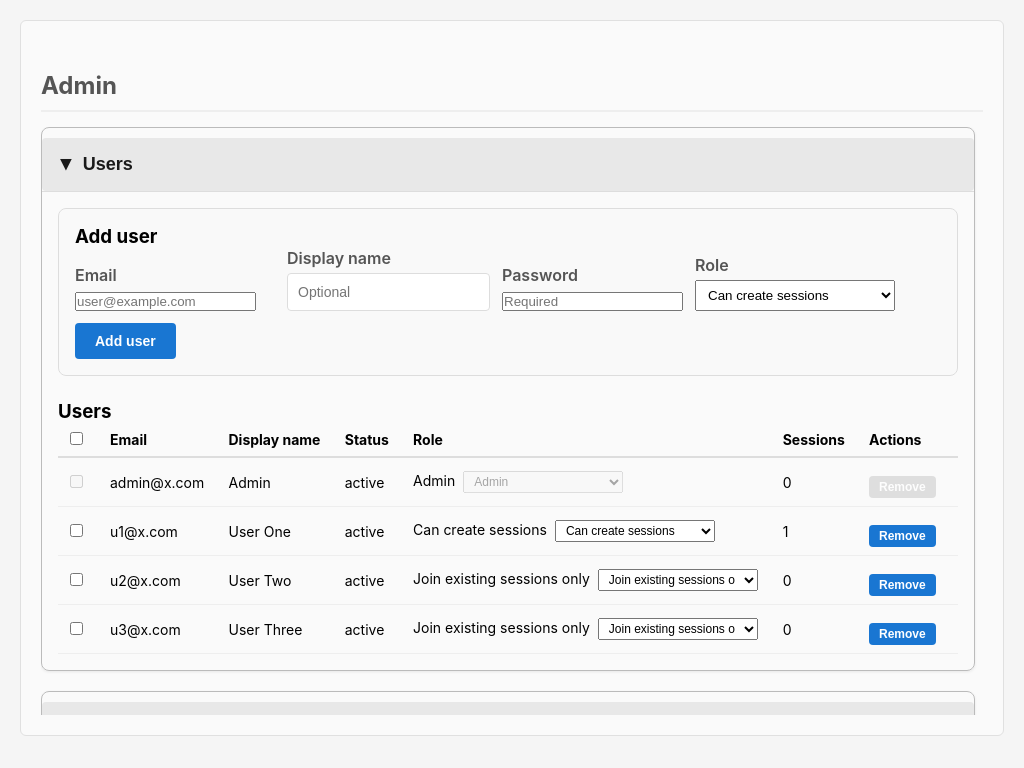
AdminUsers bulk delete (SCRUM-582) › select-all selects only selectable rows and shows the bulk action bar
Click the checkbox named "Select all users" at (76, 438), box [70,432,83,445]
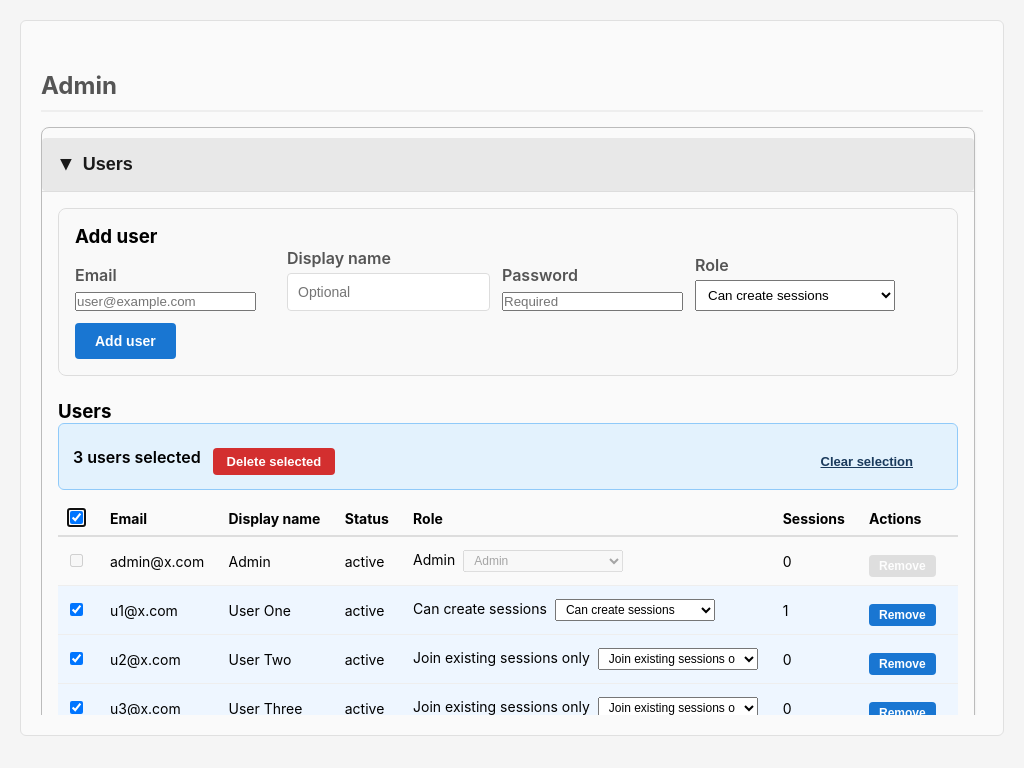
Check: the checkbox named "Select all users" is checked, box [70,511,83,524]
Check: the text "3 users selected" is shown, box [73,446,201,466]
Check: the checkbox named "Select u1@x.com" is checked, box [70,602,83,616]
